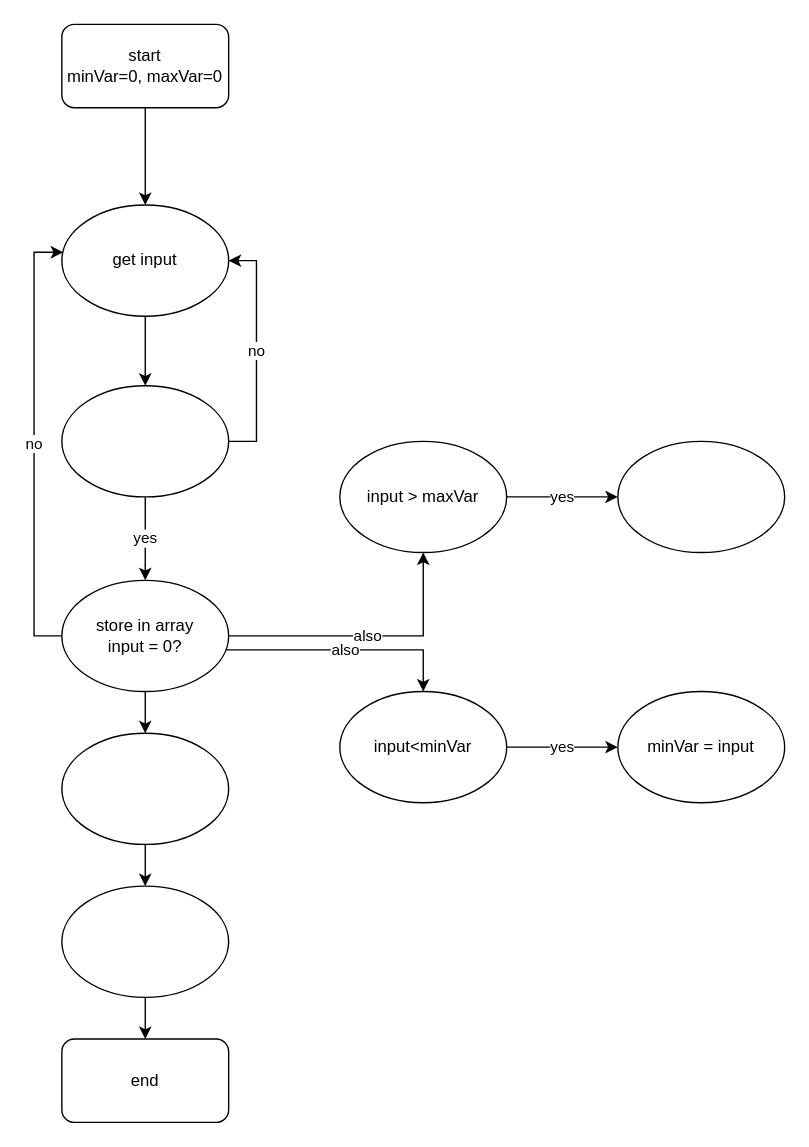
The diagram is 809 pixels wide and 1147 high, and some of its shapes have lost their labels. The box of each missing label's shape, as (x1, y1, x2, y2) in pixels:
check if number: (60, 384, 229, 497)
maxVar = input: (616, 440, 785, 553)
return average, maxVar and minVar: (60, 885, 229, 997)
sum of each and divide by arr.length: (60, 732, 229, 844)
